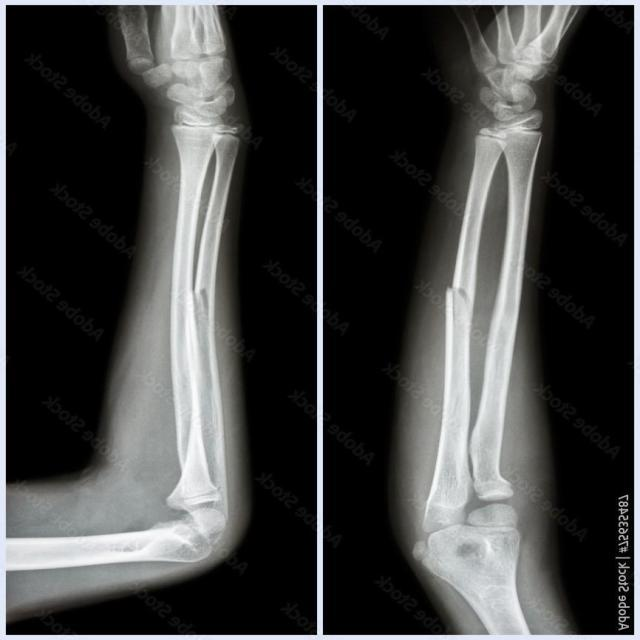bone: (432, 274, 482, 315), (186, 280, 228, 326)
